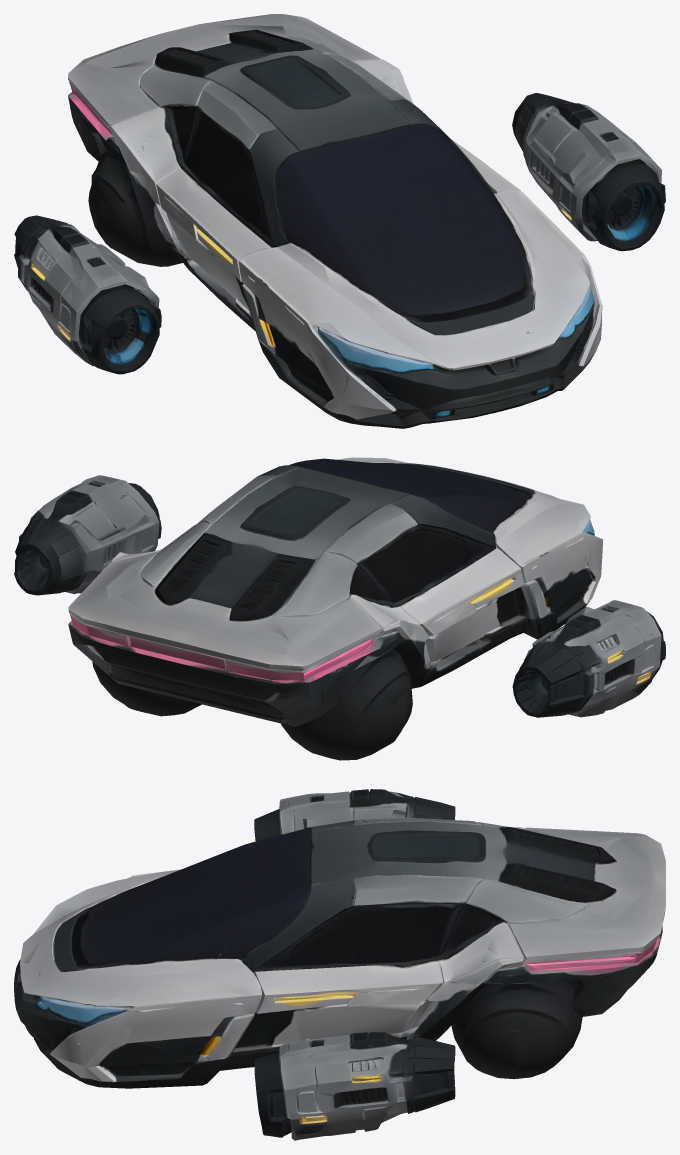
3 views of the same model, one above another, from view 1: azimuth 30°, elevation 25°; view 2: azimuth 150°, elevation 25°; view 3: azimuth 270°, elevation 25° (orthographic). The views are drawn at different scales.
Parts seen in each view (by area): view 1: model; view 2: model; view 3: model.
Part boxes in pixels (box(x1,y1,x2,y2)): model: box(14, 14, 665, 428); model: box(14, 457, 665, 760); model: box(14, 789, 665, 1140).
Bounding box in the file's own units: 1.9 × 0.5961 × 1.87.
1 material, 1 textured.
